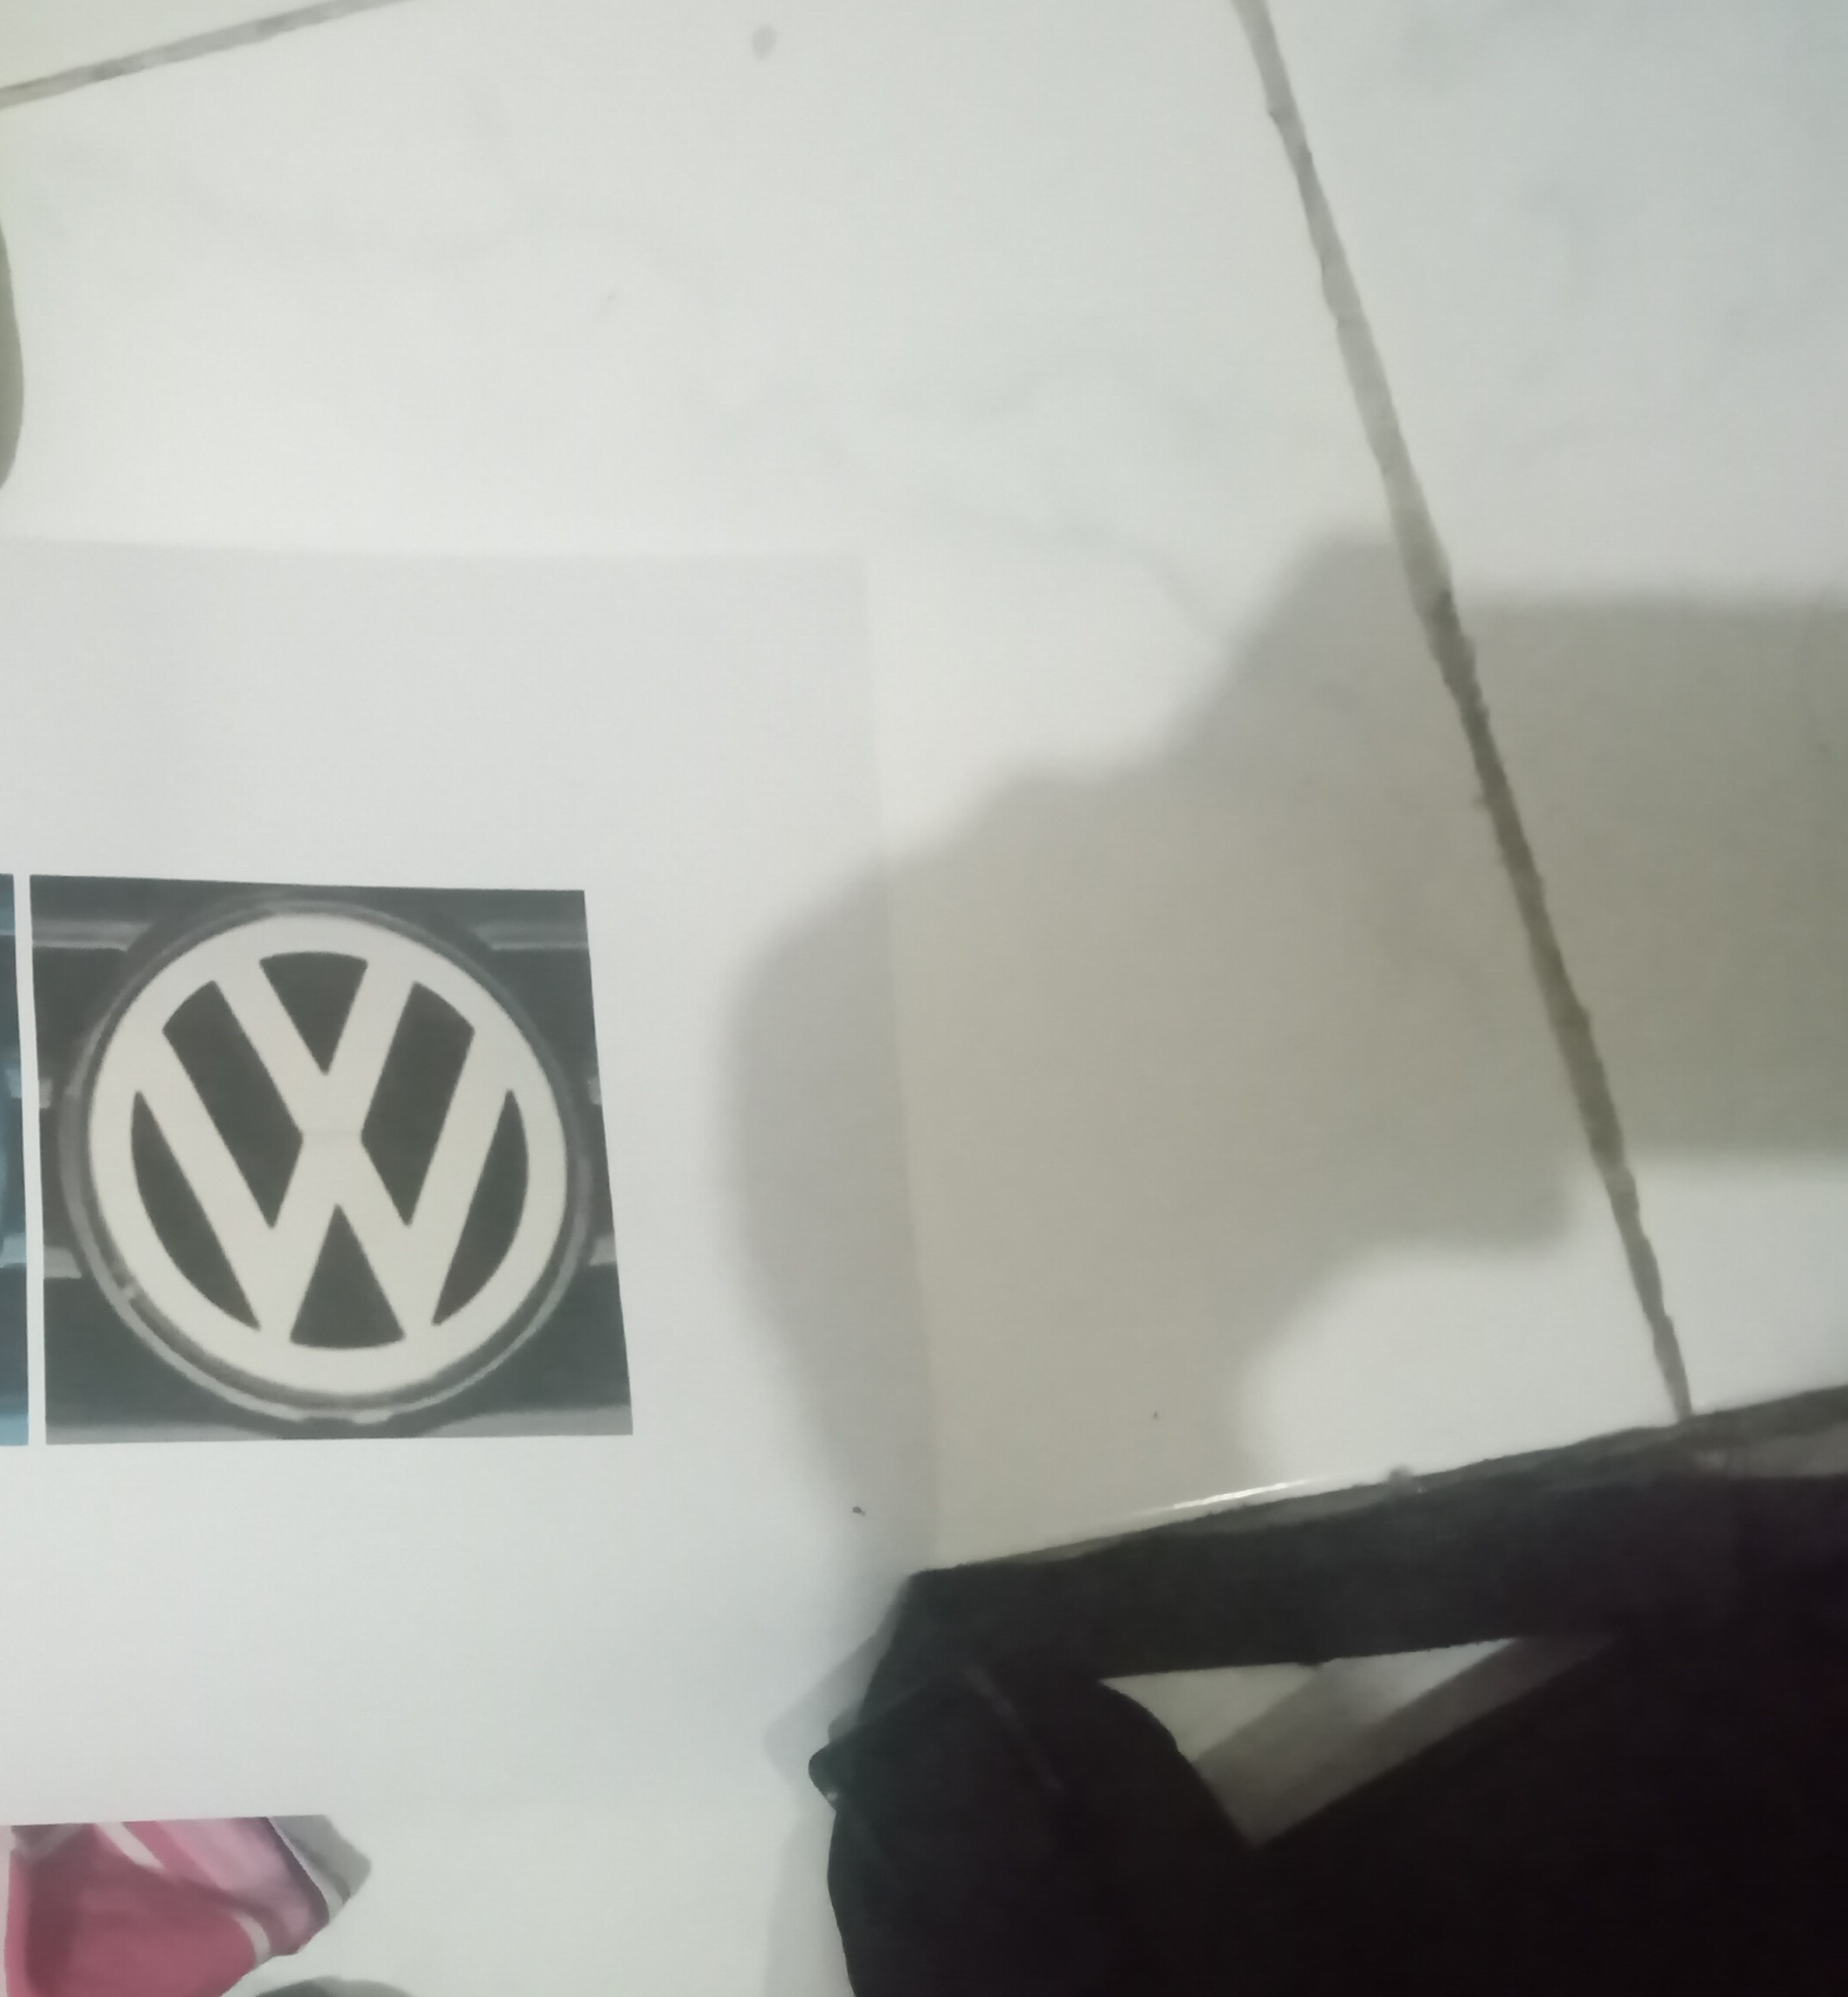Volkswagen: (49, 898, 597, 1439)
